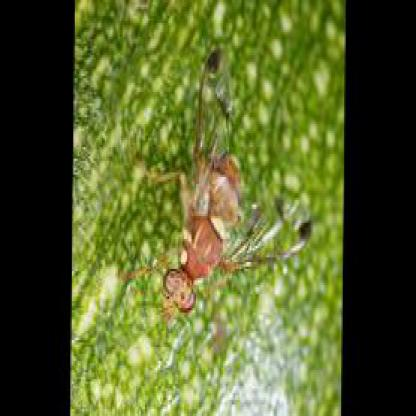fruit fly: (152, 48, 313, 309)
